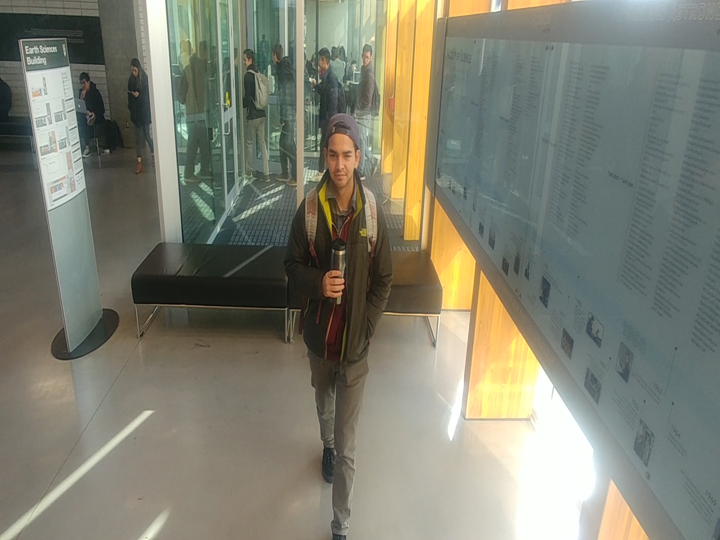face: (317, 109, 368, 190), (310, 44, 335, 73), (125, 54, 148, 80), (72, 69, 95, 93), (357, 39, 374, 70), (268, 39, 286, 67), (239, 46, 259, 70)
human: (274, 109, 401, 540), (239, 45, 274, 188), (352, 38, 385, 181), (269, 40, 299, 185), (122, 54, 158, 173), (72, 68, 115, 161), (313, 46, 349, 112)
